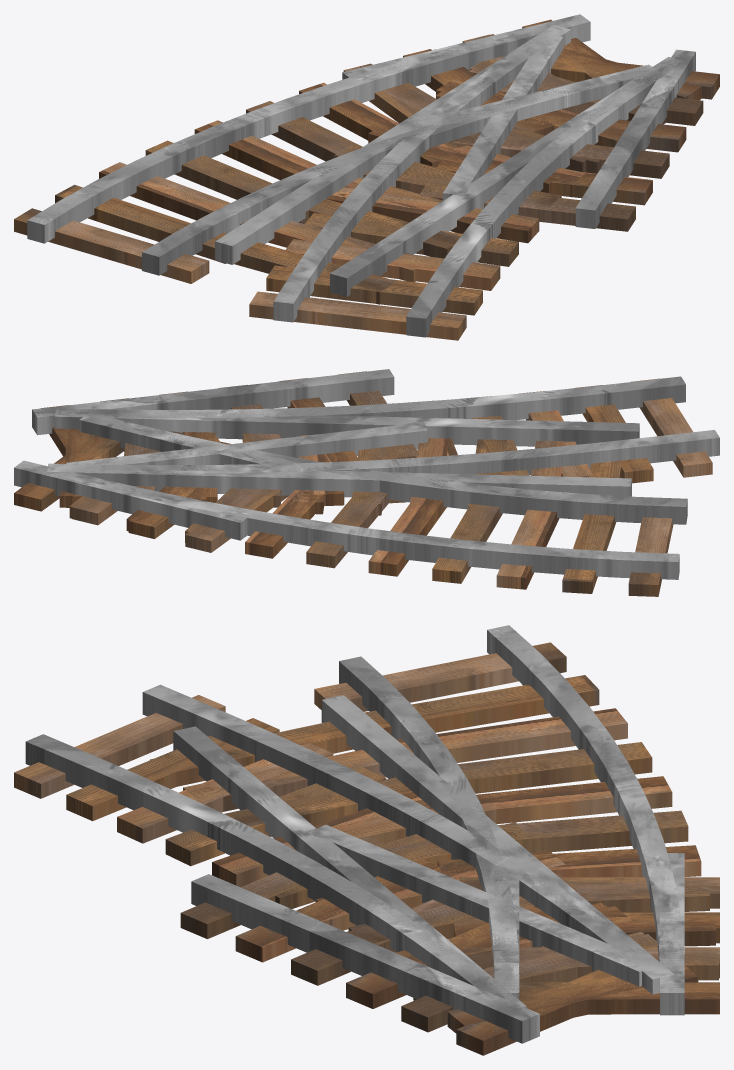
File: rails.glb
3 views of the same model, one above another, from view 1: azimuth 30°, elevation 25°; view 2: azimuth 150°, elevation 25°; view 3: azimuth 270°, elevation 25° (orthographic). The views are drawn at different scales.
Parts seen in each view (by area): view 1: CurveOuter, CurveInner, Straight225, Straight45, Straight; view 2: CurveOuter, CurveInner, Straight225, Straight45, Straight; view 3: CurveOuter, CurveInner, Straight45, Straight225, Straight.
Boxes of the visible parts, box(x1,y1,x2,y2) form: CurveOuter: box(14, 14, 658, 283); CurveInner: box(249, 25, 701, 340); Straight225: box(204, 30, 700, 304); Straight45: box(419, 36, 719, 231); Straight: box(342, 14, 655, 149); CurveOuter: box(14, 416, 687, 596); CurveInner: box(47, 376, 719, 507); Straight225: box(47, 411, 639, 515); Straight45: box(32, 369, 428, 468); Straight: box(14, 413, 309, 552); CurveOuter: box(314, 625, 719, 1014); CurveInner: box(14, 684, 696, 1033); Straight45: box(180, 824, 657, 1055); Straight225: box(150, 695, 698, 1025); Straight: box(459, 853, 719, 1015).
Size of the model in its own units: 5.73 by 0.2 by 4.27.
Materials: 5 (5 with a texture image).
